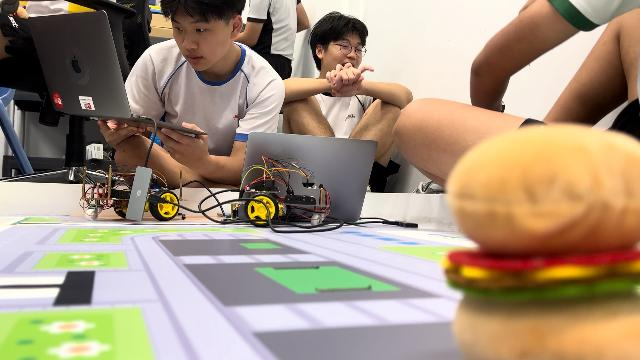burger: (440, 126, 640, 360)
